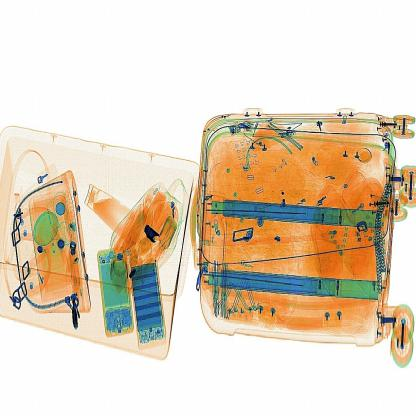pliers: (142, 220, 162, 251)
